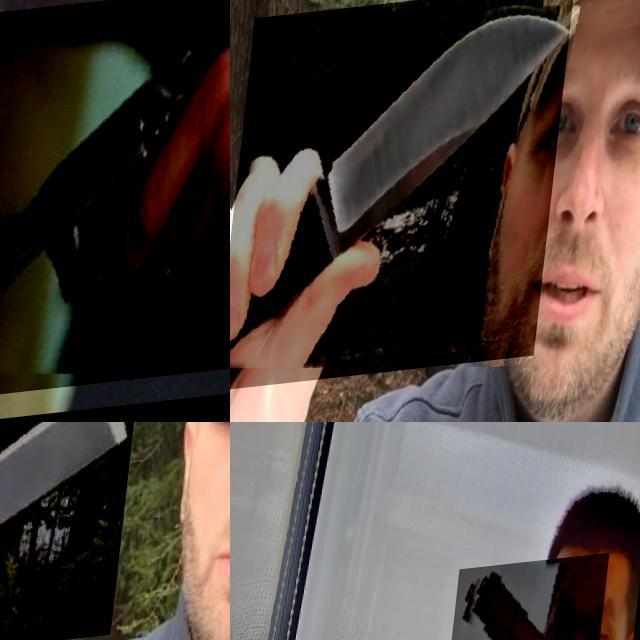-: (230, 0, 577, 393), (0, 422, 145, 640)
gun-knife-thesis - v11 Yolov5 augmented: (0, 0, 230, 401), (440, 566, 614, 640)
